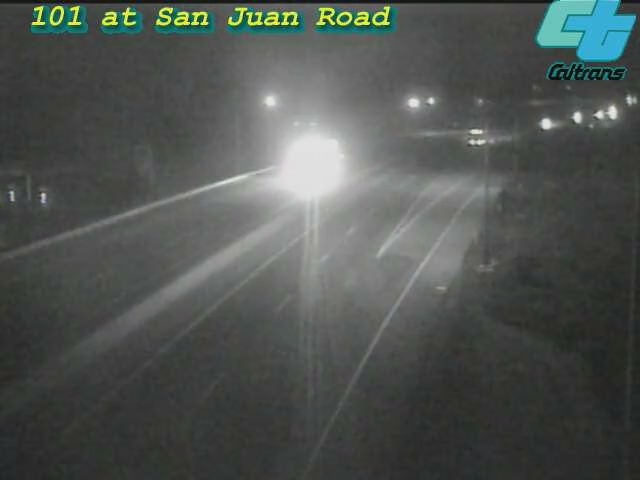vehicle: (271, 124, 351, 204), (525, 100, 575, 150), (450, 111, 500, 161), (551, 91, 601, 141), (587, 87, 637, 137), (575, 90, 625, 140)
